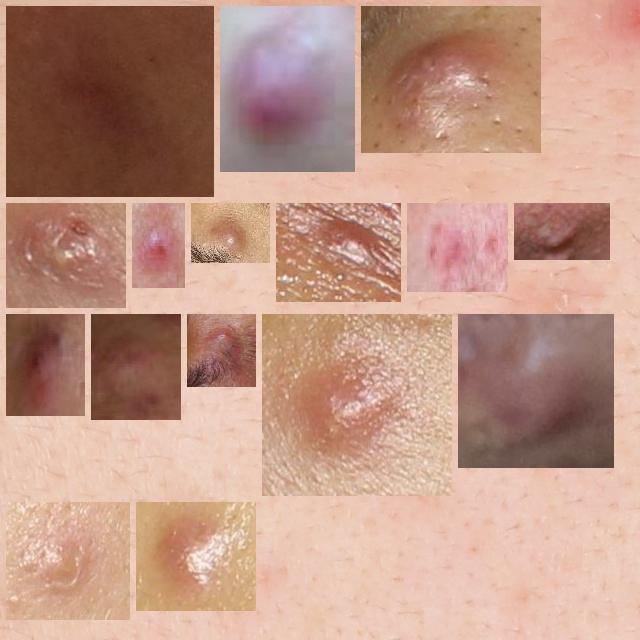nodule: (14, 14, 206, 189), (270, 322, 444, 488), (369, 14, 533, 145), (466, 322, 606, 460), (228, 14, 347, 164), (14, 510, 122, 612), (144, 510, 248, 603), (14, 211, 118, 300), (284, 211, 393, 294), (99, 322, 173, 412), (415, 211, 500, 284), (14, 322, 77, 408), (522, 211, 602, 252), (195, 322, 248, 379), (199, 211, 262, 255), (140, 211, 177, 280)
